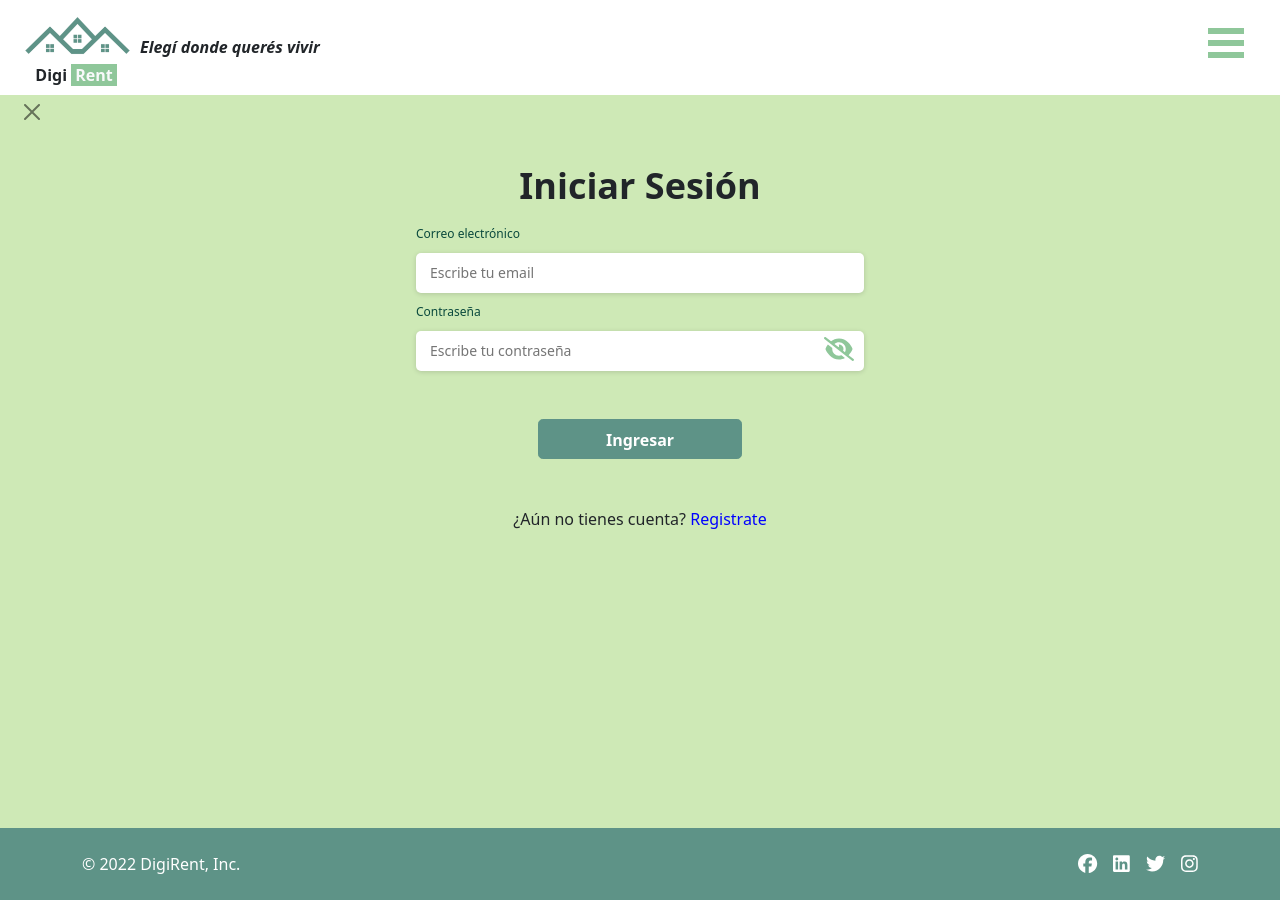
Test: Cuando el email ingresado es incorrecto muestra mensaje de error
The width and height of the screenshot is (1280, 900).
Type "userSinEmail" into the field with placeholder "Escribe tu email" at point(640, 273), box 416,253 -> 864,293
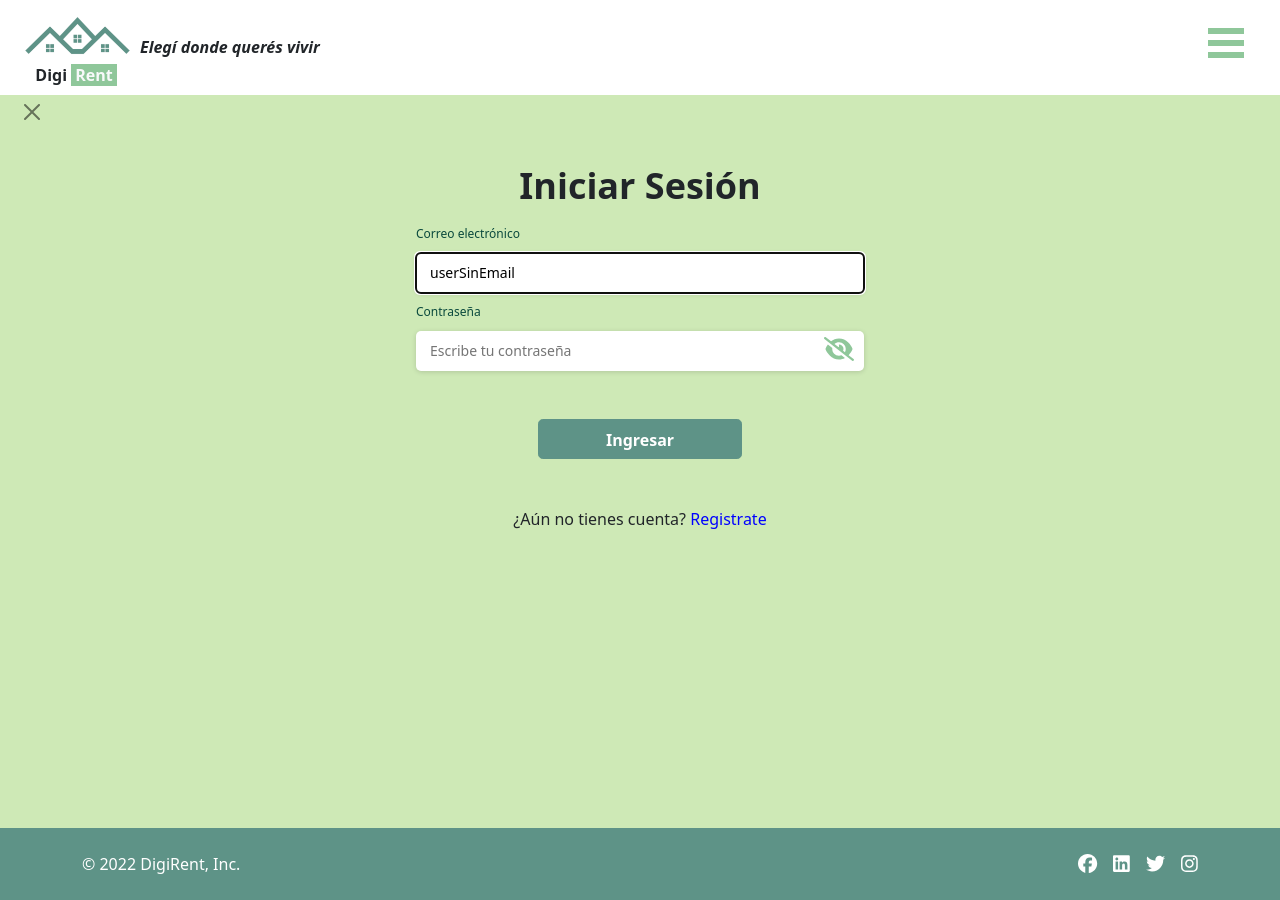
Type "1234" into the password field with placeholder "Escribe tu contraseña" at point(640, 351), box 416,331 -> 864,371
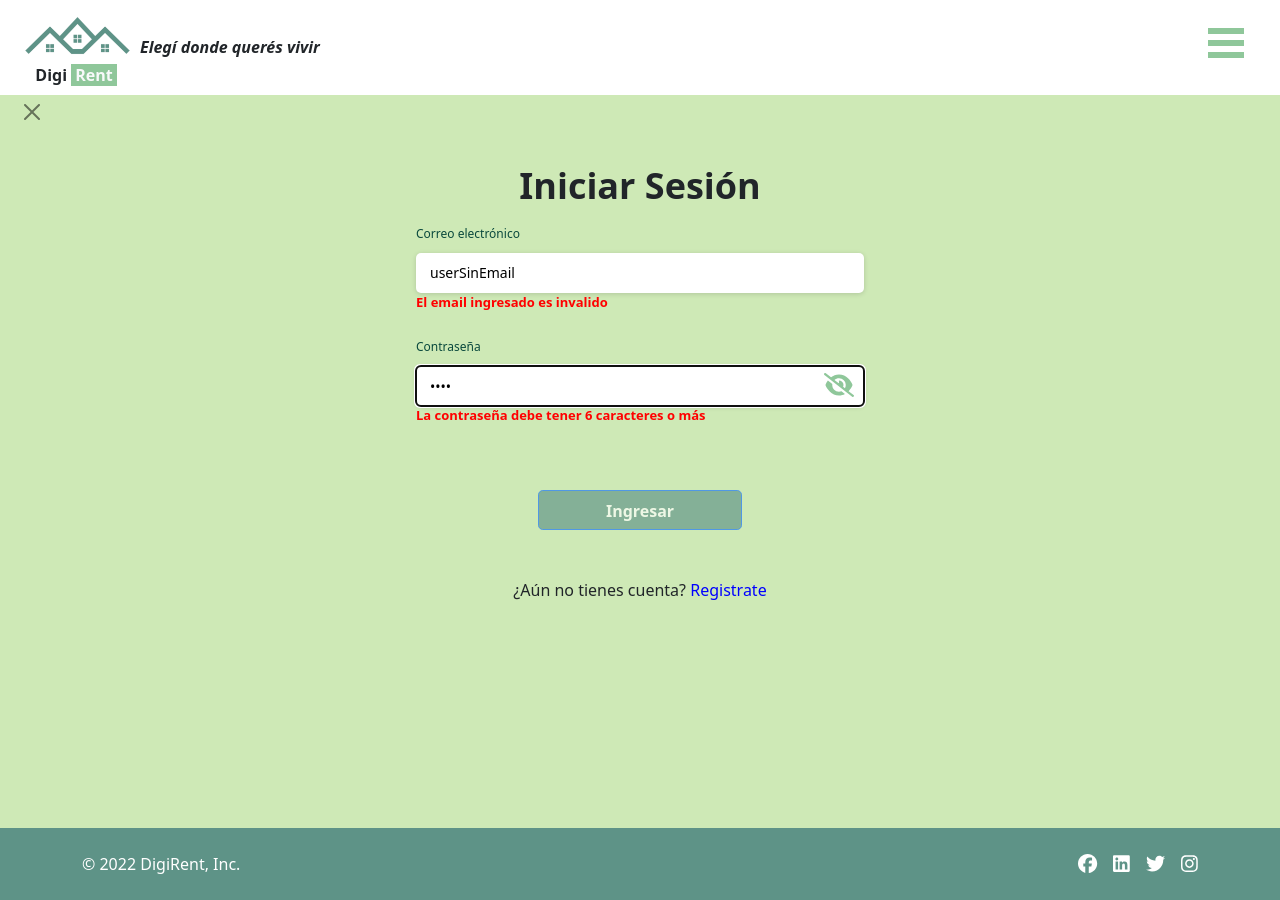
Check: the text "El email ingresado es invalido" is shown, box 416,293 -> 608,311
Check: the text "La contraseña debe tener 6 caracteres o más" is shown, box 416,406 -> 706,424
